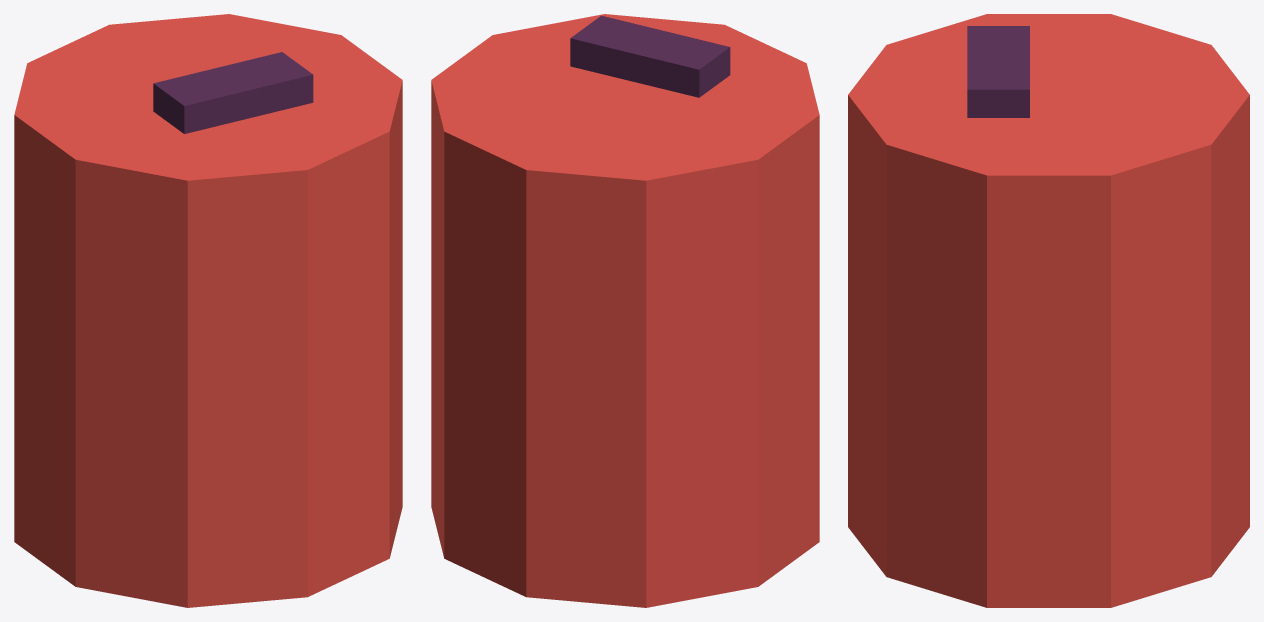
Rendered from soda-can.obj.
3 renders of one model, left to right at view 1: azimuth 30°, elevation 25°; view 2: azimuth 150°, elevation 25°; view 3: azimuth 270°, elevation 25°, orthographic.
Visible parts, largest first — view 1: soft-soda-can, tiny-pull-tab; view 2: soft-soda-can, tiny-pull-tab; view 3: soft-soda-can, tiny-pull-tab.
Boxes of the visible parts, <box> form: soft-soda-can: <box>14,14,402,607</box>; tiny-pull-tab: <box>153,52,313,133</box>; soft-soda-can: <box>431,14,819,607</box>; tiny-pull-tab: <box>570,15,730,97</box>; soft-soda-can: <box>848,14,1249,607</box>; tiny-pull-tab: <box>967,26,1029,117</box>.
Size of the model in its own units: 0.3044 by 0.4125 by 0.32.
